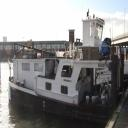tugboat: (8, 9, 127, 124)
